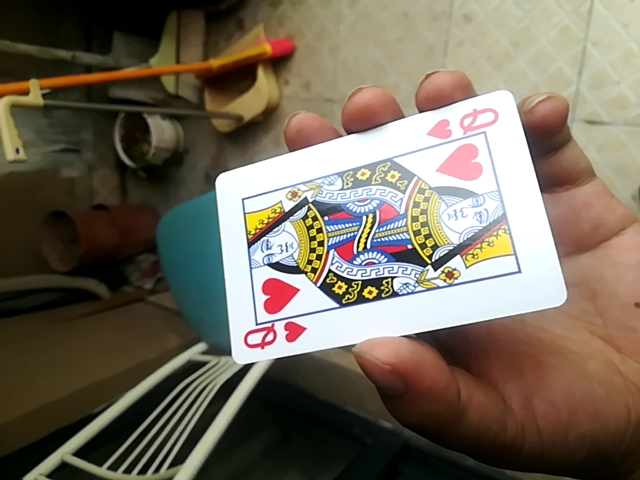hx q: (212, 93, 570, 363)
